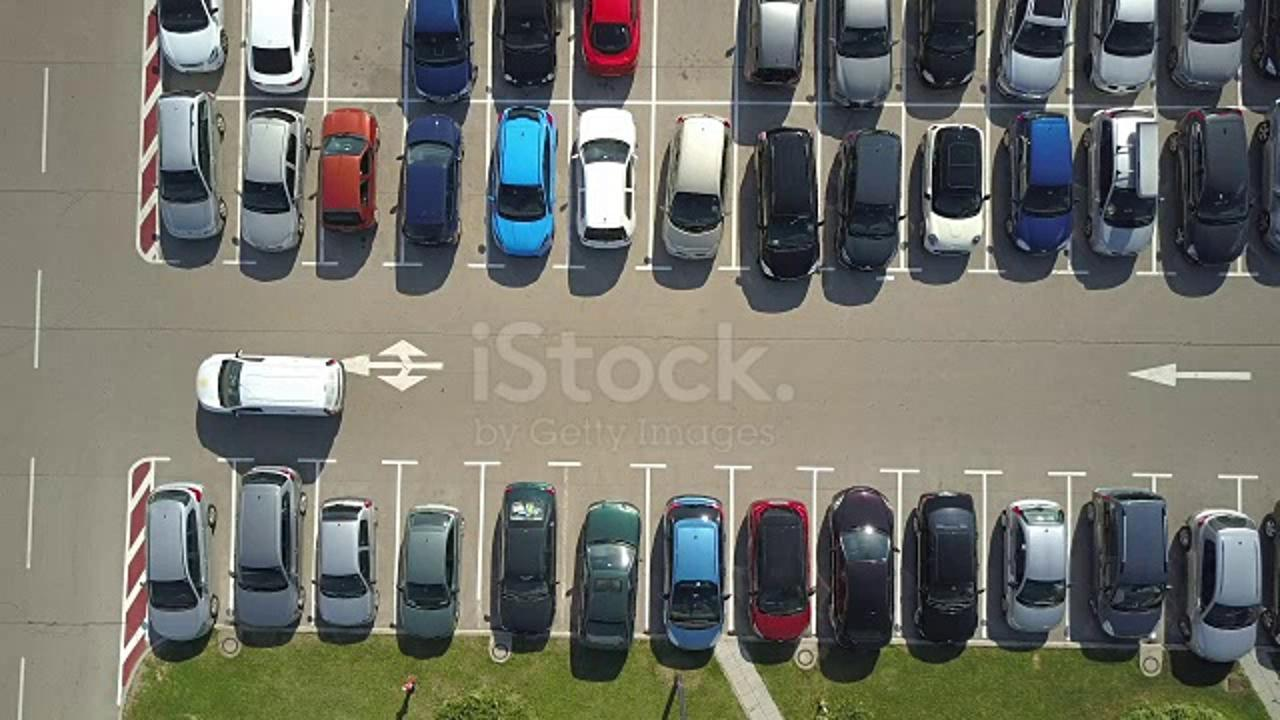car: (184, 345, 349, 428), (1084, 485, 1171, 640), (997, 111, 1084, 255), (741, 492, 818, 649), (656, 110, 735, 262), (493, 476, 568, 635), (565, 495, 640, 653), (829, 127, 909, 270), (993, 492, 1073, 635), (914, 121, 994, 264), (485, 101, 557, 257), (568, 103, 642, 253), (237, 107, 309, 257), (395, 110, 466, 251), (315, 492, 386, 633), (397, 502, 465, 649), (314, 107, 384, 236)
